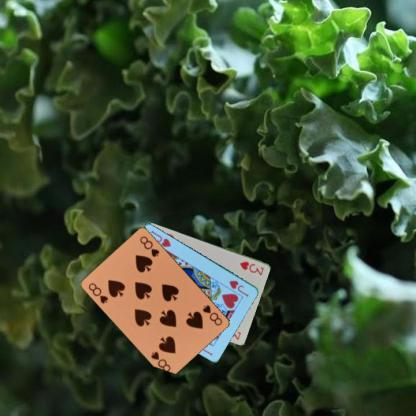3h: (238, 259, 265, 277)
8s: (200, 302, 224, 327), (86, 280, 110, 305)
Jh: (227, 278, 250, 298)
